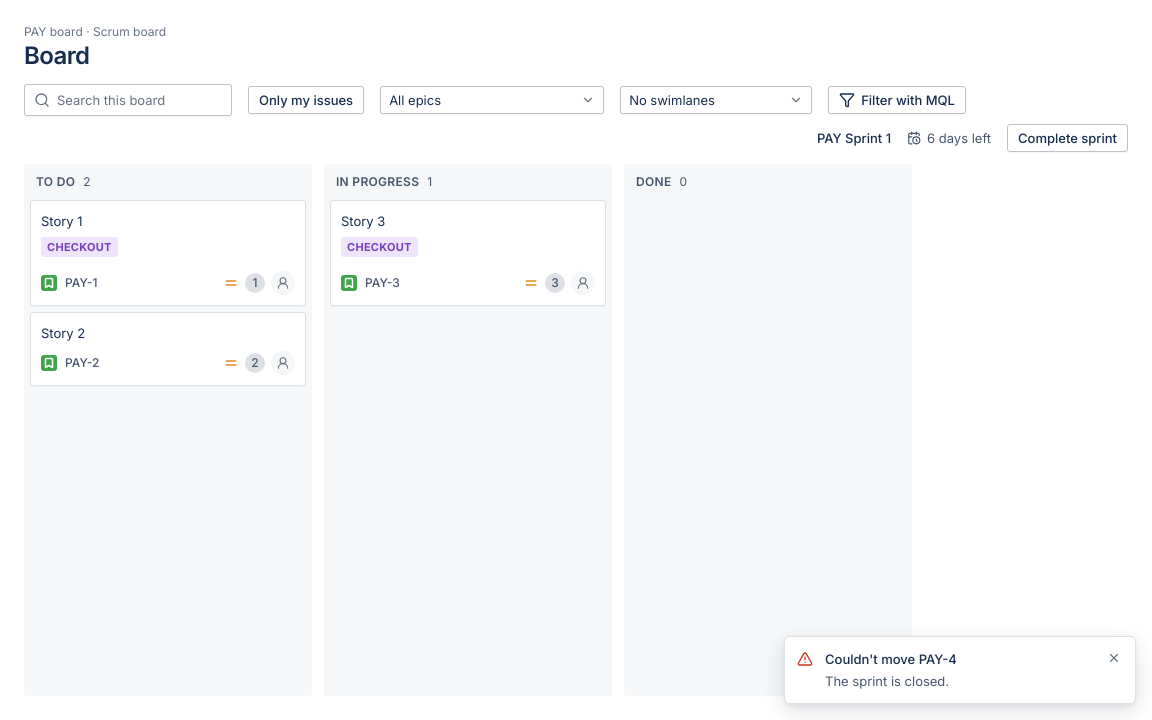
Scenario: board page › splits the board into swimlanes by epic, each with every column
Expected: the element "To Do 2 Story 1 Checkout PAY-1 1 Story 2 PAY-2 2" is shown, [24, 164, 312, 696]
Click the dropdown labelled "swimlanes": (716, 100) [620, 86, 812, 114]
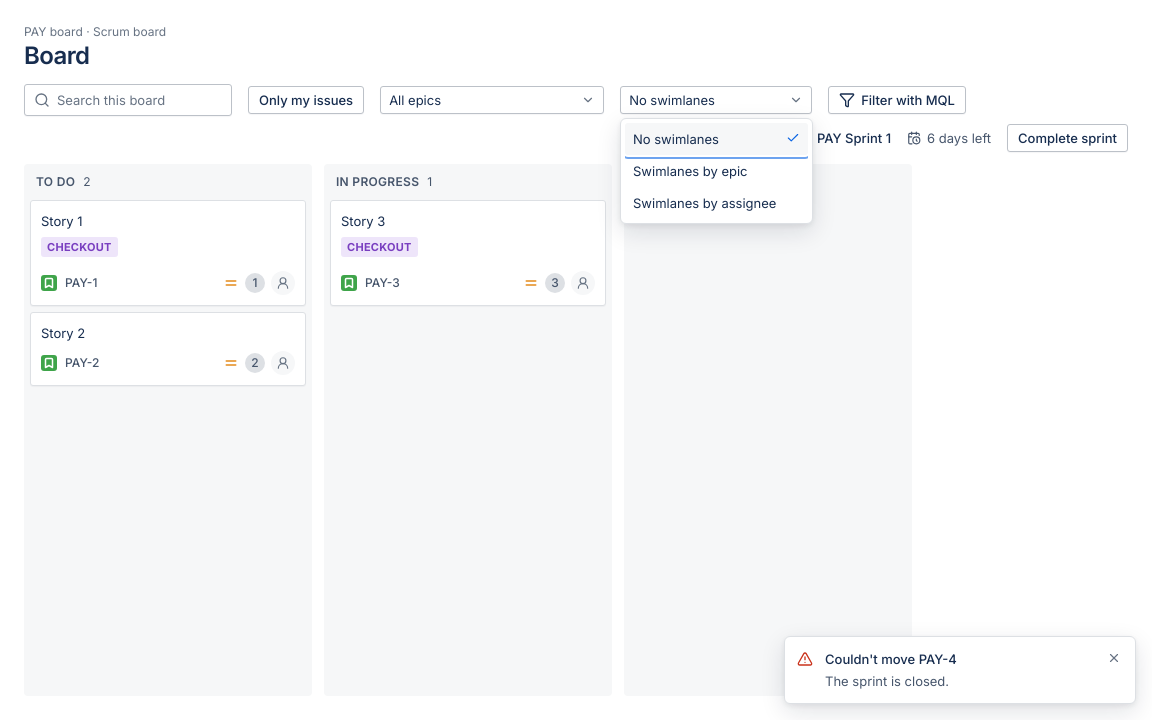
Click the option "Swimlanes by epic": (690, 171) [633, 163, 748, 179]
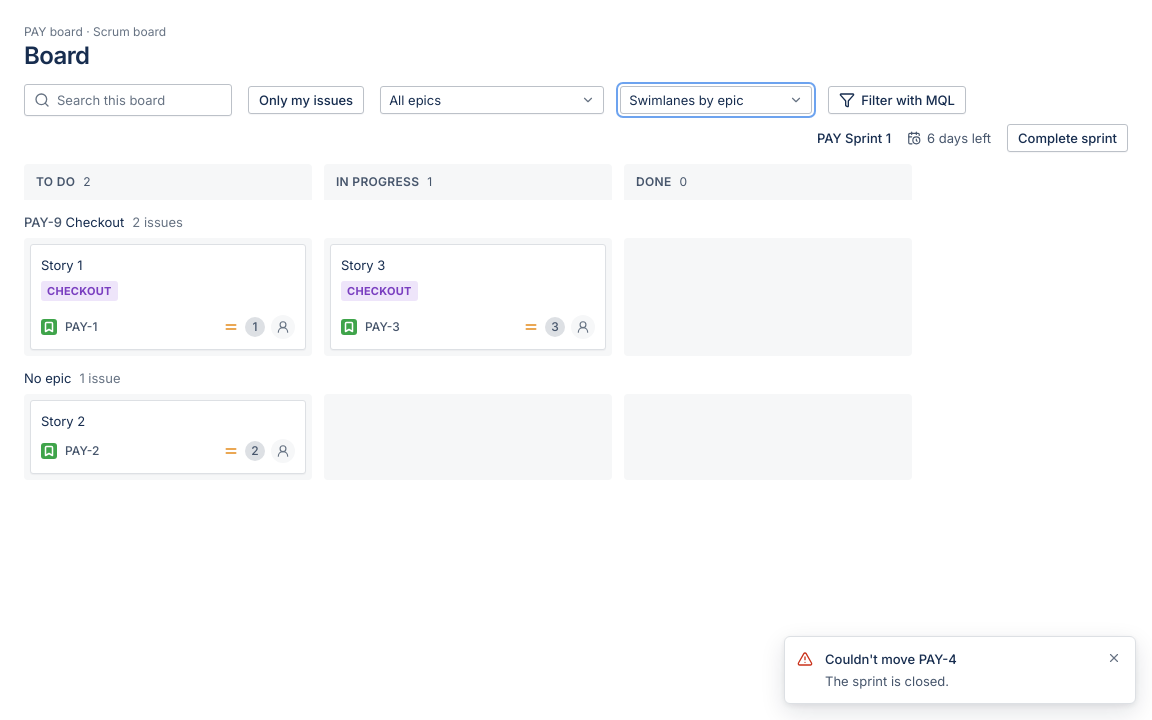
Expected: the text "2 issues" is shown, [132, 212, 183, 232]
Expected: the link "PAY-3" is shown, [365, 319, 400, 335]
Expected: the link "PAY-2" is shown, [65, 443, 99, 459]
